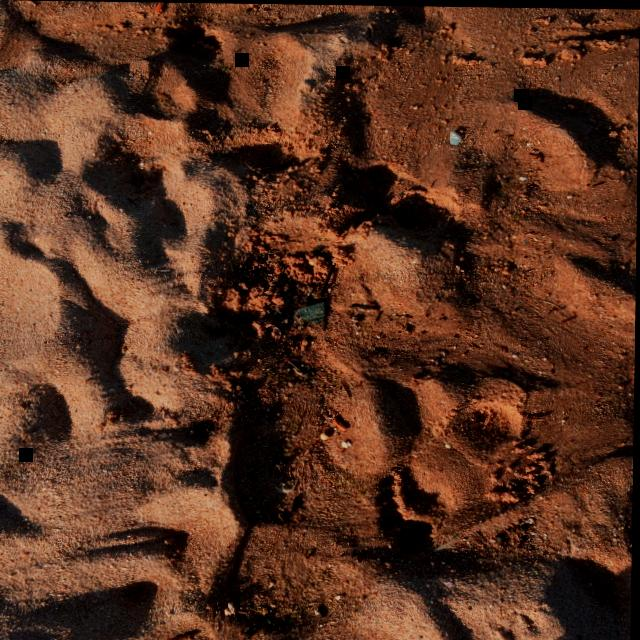Cigarette: (333, 415, 350, 431), (172, 633, 196, 640), (154, 2, 167, 14)
Other plastic bottle: (291, 300, 326, 322)
